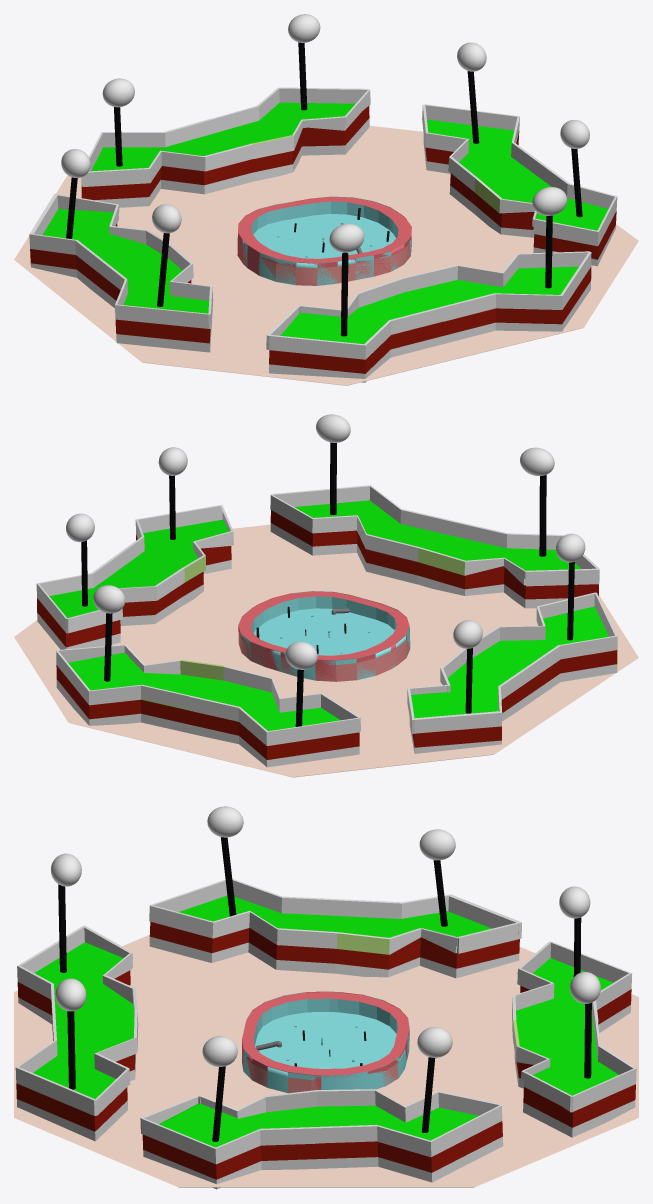
Rendered from muntitled_f.fbx.
3 views of the same model, one above another, from view 1: azimuth 30°, elevation 25°; view 2: azimuth 150°, elevation 25°; view 3: azimuth 270°, elevation 25° (orthographic). The views are drawn at different scales.
Parts seen in each view (by area): view 1: Plane.003, Cube.002, Cube.006, Cube.004, Cube.003, Cube, Sphere.003, Sphere.002, Sphere.001, Sphere, Sphere.006, Sphere.004 (+3 smaller); view 2: Plane.003, Cube.006, Cube.002, Cube.004, Cube.003, Cube, Sphere.002, Sphere.003, Sphere, Sphere.001, Sphere.006, Sphere.007 (+4 smaller); view 3: Plane.003, Cube.003, Cube.004, Cube.002, Cube.006, Cube, Sphere.006, Sphere.007, Sphere.004, Sphere.005, Sphere.002, Sphere.003 (+8 smaller).
Boxes of the visible parts, box(x1,y1,x2,y2) form: Plane.003: box(14, 125, 638, 385); Cube.002: box(266, 251, 591, 382); Cube.006: box(81, 87, 370, 207); Cube.004: box(29, 193, 213, 352); Cube.003: box(422, 104, 617, 266); Cube: box(237, 196, 411, 285); Sphere.003: box(329, 223, 364, 252); Sphere.002: box(532, 187, 567, 215); Sphere.001: box(102, 78, 134, 107); Sphere: box(288, 14, 320, 42); Sphere.006: box(152, 204, 181, 233); Sphere.004: box(457, 42, 486, 71); Plane.003: box(14, 524, 638, 777); Cube.006: box(56, 644, 360, 767); Cube.002: box(270, 485, 599, 608); Cube.004: box(407, 592, 617, 753); Cube.003: box(36, 505, 233, 649); Cube: box(238, 591, 410, 681); Sphere.002: box(316, 414, 350, 442); Sphere.003: box(520, 447, 554, 475); Sphere: box(93, 585, 125, 613); Sphere.001: box(285, 641, 317, 669); Sphere.006: box(555, 533, 585, 562); Sphere.007: box(453, 620, 482, 648); Plane.003: box(14, 934, 638, 1187); Cube.003: box(140, 1089, 503, 1189); Cube.004: box(149, 879, 521, 978); Cube.002: box(15, 925, 138, 1141); Cube.006: box(512, 941, 636, 1137); Cube: box(242, 991, 409, 1093); Sphere.006: box(207, 806, 243, 837); Sphere.007: box(419, 829, 455, 860); Sphere.004: box(417, 1027, 452, 1057); Sphere.005: box(202, 1036, 237, 1066); Sphere.002: box(55, 978, 86, 1011); Sphere.003: box(50, 853, 81, 886).
Size of the model in its own units: 5049 by 5074 by 1375.
